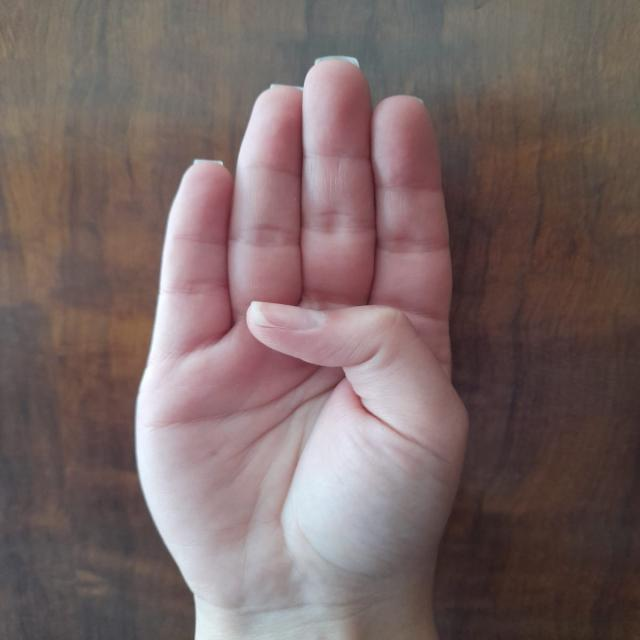B: (122, 42, 506, 602)
